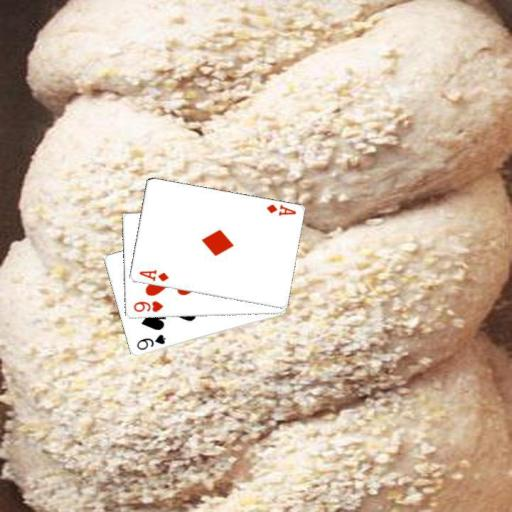9H: (130, 298, 164, 314)
9S: (133, 331, 167, 352)
AD: (263, 201, 297, 218), (136, 267, 170, 283)
